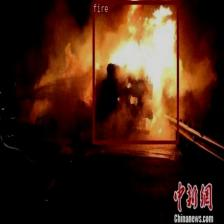fire: (92, 1, 178, 144)
